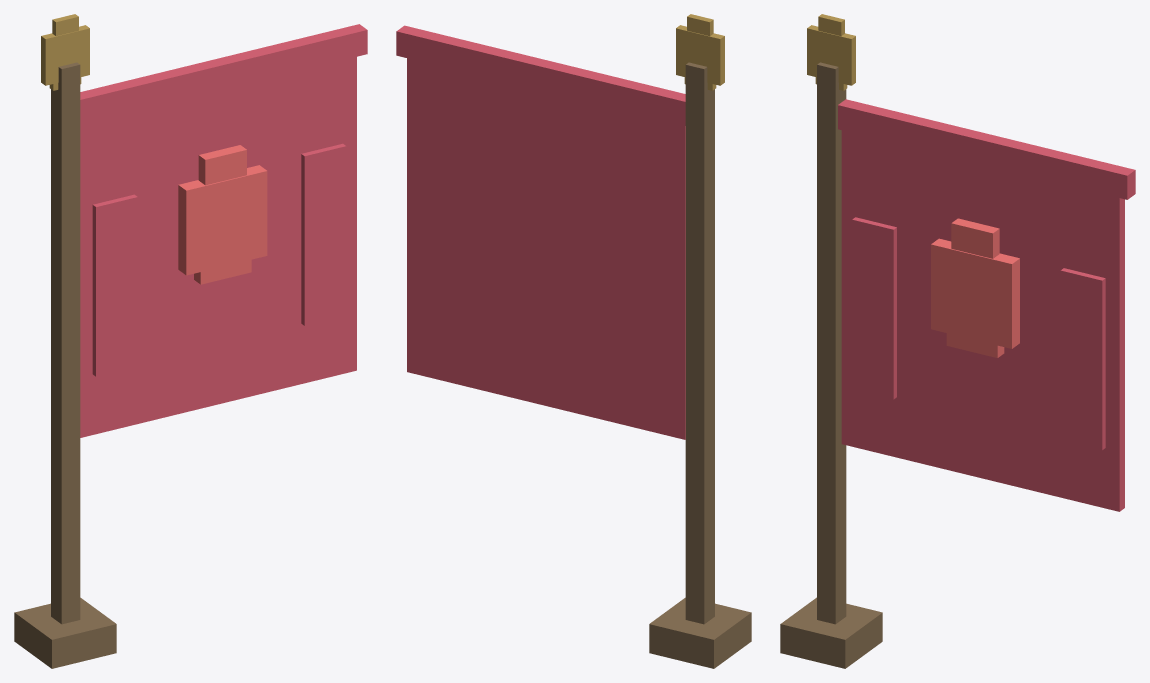
File: cosmetic_banner_coral_streamer.glb
3 views of the same model, side by side, from view 1: azimuth 30°, elevation 25°; view 2: azimuth 150°, elevation 25°; view 3: azimuth 330°, elevation 25° (orthographic).
Visible parts, largest first — view 1: CosmeticArt_cloth, CosmeticArt_pole, CosmeticArt_crest, CosmeticArt_finial; view 2: CosmeticArt_cloth, CosmeticArt_pole, CosmeticArt_finial; view 3: CosmeticArt_cloth, CosmeticArt_pole, CosmeticArt_crest, CosmeticArt_finial.
Boxes of the visible parts, left/top/right/bottom form: CosmeticArt_cloth: left=80, top=24, right=367, bottom=437; CosmeticArt_pole: left=14, top=62, right=116, bottom=668; CosmeticArt_crest: left=178, top=145, right=267, bottom=284; CosmeticArt_finial: left=41, top=14, right=89, bottom=90; CosmeticArt_cloth: left=396, top=25, right=685, bottom=439; CosmeticArt_pole: left=649, top=62, right=751, bottom=668; CosmeticArt_finial: left=676, top=14, right=724, bottom=90; CosmeticArt_cloth: left=838, top=99, right=1135, bottom=511; CosmeticArt_pole: left=780, top=62, right=882, bottom=668; CosmeticArt_crest: left=931, top=218, right=1019, bottom=357; CosmeticArt_finial: left=807, top=14, right=855, bottom=90.
Bounding box in the file's own units: 1.43 × 2.6 × 0.28.
